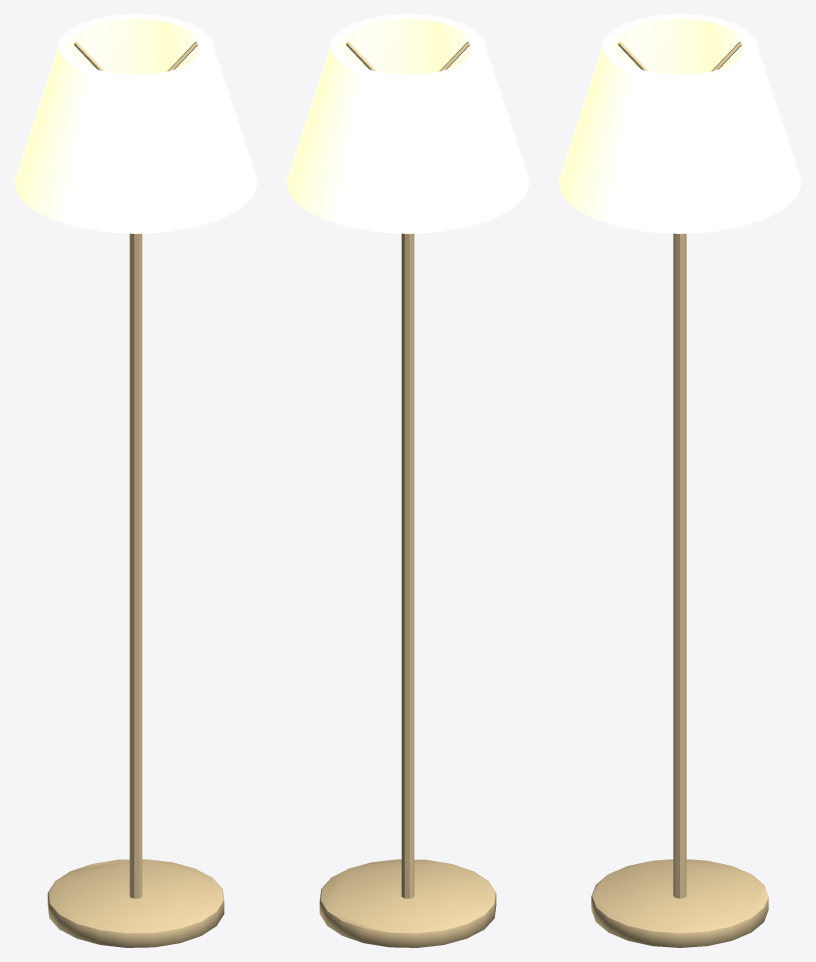
File: floor_lamp.glb
The picture shows the model from 3 angles, left to right: view 1: azimuth 30°, elevation 25°; view 2: azimuth 150°, elevation 25°; view 3: azimuth 270°, elevation 25°; orthographic projection.
Parts seen in each view (by area): view 1: Lamp shade, Brass; view 2: Lamp shade, Brass; view 3: Lamp shade, Brass.
Boxes of the visible parts, x1,y1,x2,y2 form: Lamp shade: (14,14,257,233); Brass: (47,41,224,947); Lamp shade: (286,14,529,233); Brass: (319,41,496,947); Lamp shade: (558,14,801,233); Brass: (591,41,768,947).
Size of the model in its own units: 0.44 by 1.72 by 0.44.
